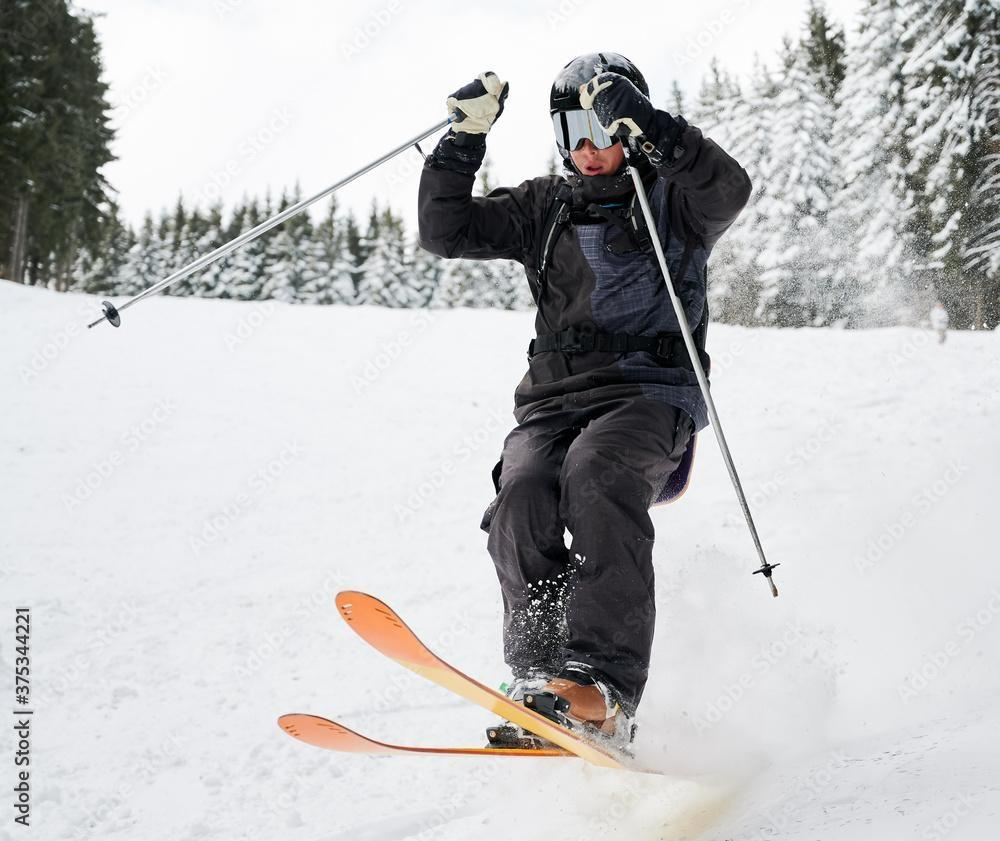Skis: (254, 556, 711, 806)
